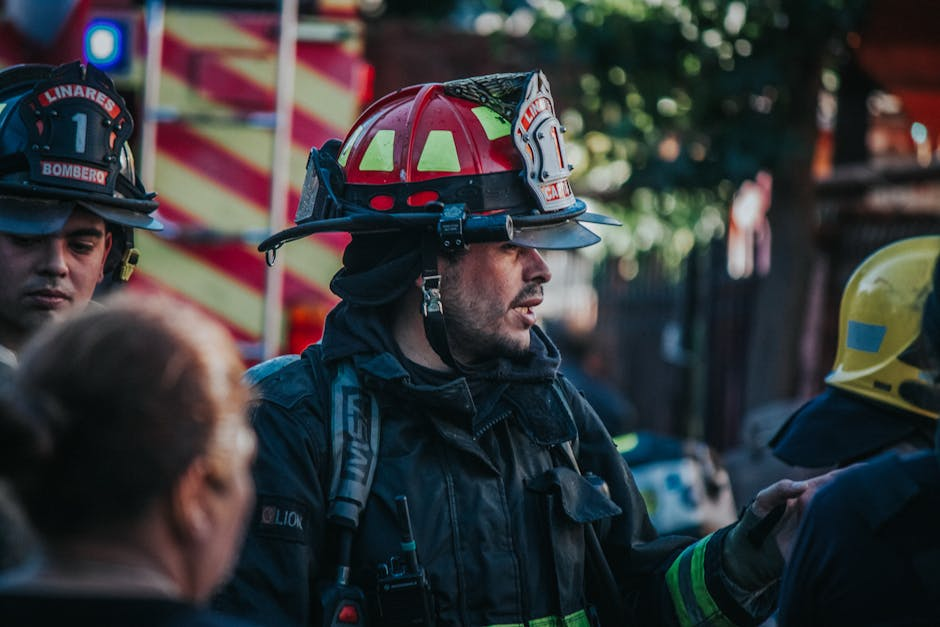safety_helmet: (257, 67, 623, 266), (1, 58, 165, 237), (823, 233, 939, 422)
